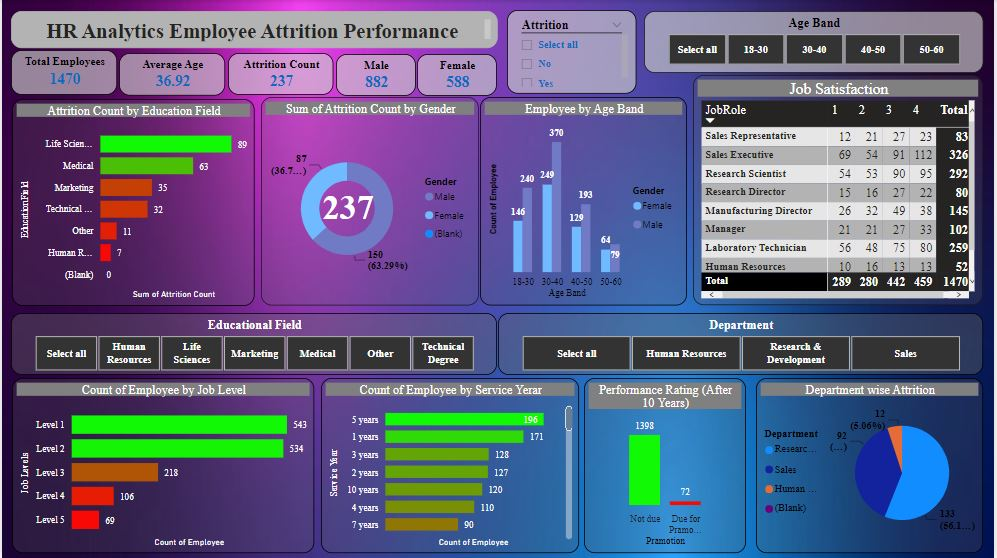

What the dashboard file says about the page in this screenshot:
{"tool":"powerbi","page":{"name":"Page 1","canvas":[1280,720],"ordinal":0},"visuals":[{"type":"slicer","fields":{"Values":["Employee Data 2018 - 2019.Attrition"]},"box":[651.7,13.3,166.7,108.3],"z":0},{"type":"card","title":"Total Employees","fields":{"Values":["Employee Data 2018 - 2019.Name"]},"box":[11,65,137,58],"z":1000},{"type":"card","title":"Attrition Count","fields":{"Values":["Employee Data 2018 - 2019.Attrition Count"]},"box":[291,69,136,54],"z":2000},{"type":"card","title":"Average Age","fields":{"Values":["Employee Data 2018 - 2019.Age"]},"box":[151,68,137,55],"z":3000},{"type":"pieChart","title":"Department wise Attrition","fields":{"Category":["Employee Data 2018 - 2019.Department"],"Y":["Employee Data 2018 - 2019.Attrition Count"]},"box":[972.9,487.1,292.9,225.7],"z":4000},{"type":"clusteredColumnChart","title":"Employee by Age Band ","fields":{"Y":["Employee Data 2018 - 2019.Employee"],"Category":["Employee Data 2018 - 2019.Age Band"],"Series":["Employee Data 2018 - 2019.Gender"]},"box":[617.1,125.7,267.1,268.6],"z":5000},{"type":"pivotTable","title":"Job Satisfaction","fields":{"Columns":["Employee Data 2018 - 2019.Job Satisfaction"],"Rows":["Employee Data 2018 - 2019.JobRole"],"Values":["Employee Data 2018 - 2019.Employee"]},"box":[891.4,97.1,374.3,297.1],"z":6000},{"type":"barChart","title":"Attrition Count by Education Field","fields":{"Category":["Employee Data 2018 - 2019.EducationField"],"Y":["Employee Data 2018 - 2019.Attrition Count"]},"box":[12.9,127.1,312.9,267.1],"z":7000},{"type":"textbox","box":[12.1,14.1,628.3,48.5],"z":8000},{"type":"slicer","title":"Age Band","fields":{"Values":["Employee Data 2018 - 2019.Age Band"]},"box":[828,14,438,80],"z":9000},{"type":"donutChart","fields":{"Category":["Employee Data 2018 - 2019.Gender"],"Y":["Employee Data 2018 - 2019.Attrition Count"]},"box":[334.3,125.7,281.4,268.6],"z":10000},{"type":"card","title":"Female","fields":{"Values":["Employee Data 2018 - 2019.Female"]},"box":[535.5,69.1,102.7,53.6],"z":11000},{"type":"card","fields":{"Values":["Employee Data 2018 - 2019.Attrition Count"]},"box":[387.1,214.3,118.6,100],"z":12000},{"type":"card","title":"Male","fields":{"Values":["Employee Data 2018 - 2019.Male"]},"box":[430.9,69.1,102.7,53.6],"z":13000},{"type":"slicer","title":"Educational Field","fields":{"Values":["Employee Data 2018 - 2019.EducationField"]},"box":[11.4,404.3,627.1,80],"z":14000},{"type":"slicer","title":"Department","fields":{"Values":["Employee Data 2018 - 2019.Department"]},"box":[640,404.3,625.7,80],"z":15000},{"type":"clusteredColumnChart","title":"Performance Rating (After 10 Years)","fields":{"Category":["Employee Data 2018 - 2019.Pramotion"],"Y":["Employee Data 2018 - 2019.Performance Rating"]},"box":[751.4,487.1,208.6,225.7],"z":16000},{"type":"clusteredBarChart","fields":{"Y":["Employee Data 2018 - 2019.Employee"],"Category":["Employee Data 2018 - 2019.Job Level"]},"box":[12.9,487.1,390,225.7],"z":17000},{"type":"clusteredBarChart","fields":{"Category":["Employee Data 2018 - 2019.Service Yerar"],"Y":["Employee Data 2018 - 2019.Employee"]},"box":[411.4,487.1,332.9,225.7],"z":18000}]}

Visuals, with their boxes in screenshot pixels (x1, y1, x2, y2), scaled from the page's 1280x720 canvas onto the 997x558 screenshot:
slicer - Employee Data 2018 - 2019.Attrition: [left=508, top=10, right=637, bottom=94]
"Total Employees" card: [left=9, top=50, right=115, bottom=95]
"Attrition Count" card: [left=227, top=53, right=333, bottom=95]
"Average Age" card: [left=118, top=53, right=224, bottom=95]
"Department wise Attrition" pieChart: [left=758, top=378, right=986, bottom=552]
"Employee by Age Band " clusteredColumnChart: [left=481, top=97, right=689, bottom=306]
"Job Satisfaction" pivotTable: [left=694, top=75, right=986, bottom=306]
"Attrition Count by Education Field" barChart: [left=10, top=99, right=254, bottom=306]
textbox: [left=9, top=11, right=499, bottom=49]
"Age Band" slicer: [left=645, top=11, right=986, bottom=73]
donutChart - Employee Data 2018 - 2019.Gender x Employee Data 2018 - 2019.Attrition Count: [left=260, top=97, right=480, bottom=306]
"Female" card: [left=417, top=54, right=497, bottom=95]
card - Employee Data 2018 - 2019.Attrition Count: [left=302, top=166, right=394, bottom=244]
"Male" card: [left=336, top=54, right=416, bottom=95]
"Educational Field" slicer: [left=9, top=313, right=497, bottom=375]
"Department" slicer: [left=498, top=313, right=986, bottom=375]
"Performance Rating (After 10 Years)" clusteredColumnChart: [left=585, top=378, right=748, bottom=552]
clusteredBarChart - Employee Data 2018 - 2019.Employee x Employee Data 2018 - 2019.Job Level: [left=10, top=378, right=314, bottom=552]
clusteredBarChart - Employee Data 2018 - 2019.Service Yerar x Employee Data 2018 - 2019.Employee: [left=320, top=378, right=580, bottom=552]
